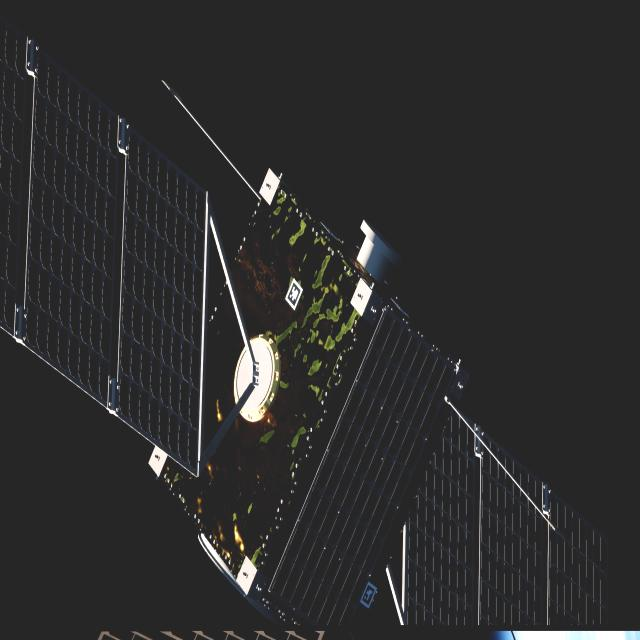medium_debris: (0, 10, 635, 640)
